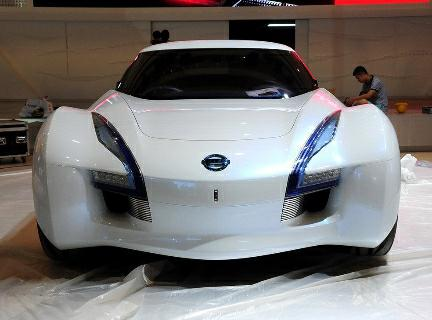日产-Esflow: (25, 39, 408, 278)
